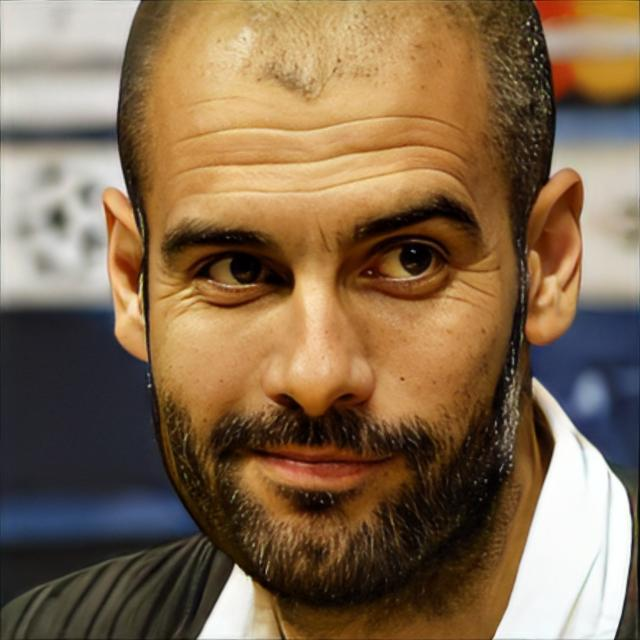content: (146, 0, 520, 605)
